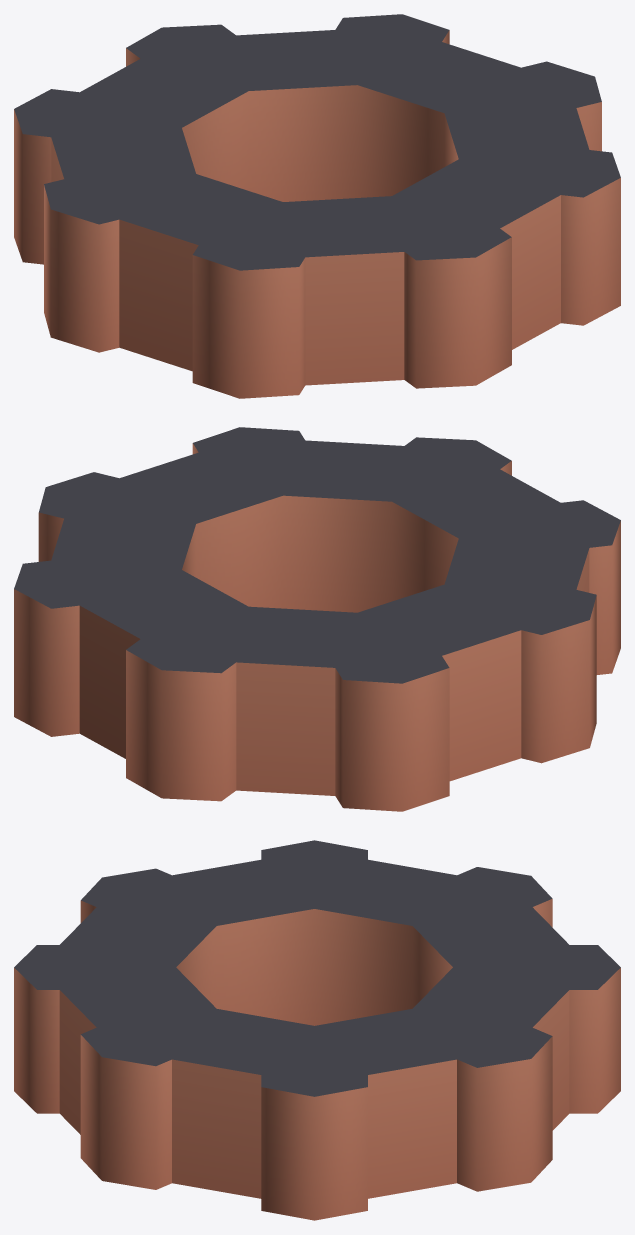
Rendered from cog-b.obj.
3 views of the same model, one above another, from view 1: azimuth 30°, elevation 25°; view 2: azimuth 150°, elevation 25°; view 3: azimuth 270°, elevation 25° (orthographic). The views are drawn at different scales.
Visible parts, largest first — view 1: cog-b; view 2: cog-b; view 3: cog-b.
Boxes of the visible parts, x1,y1,x2,y2 form: cog-b: (14,14,620,398); cog-b: (14,427,620,811); cog-b: (14,840,620,1220).
Bounding box in the file's own units: 1 × 0.225 × 1.
